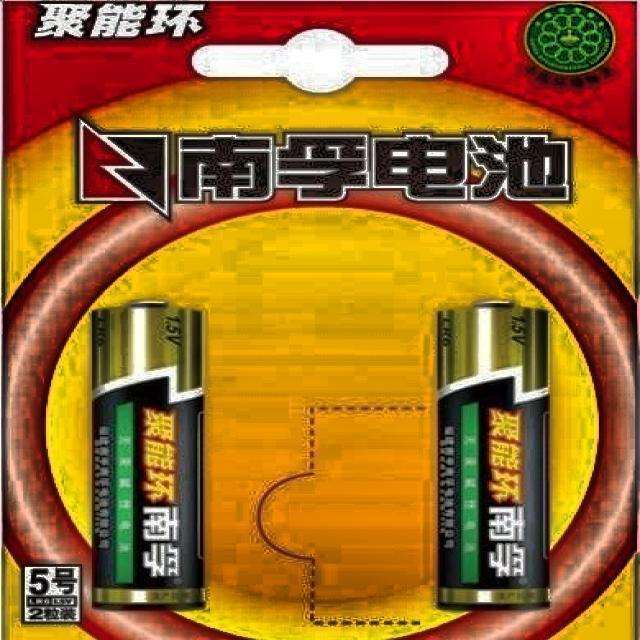battery: (438, 302, 550, 609), (93, 302, 203, 609)
